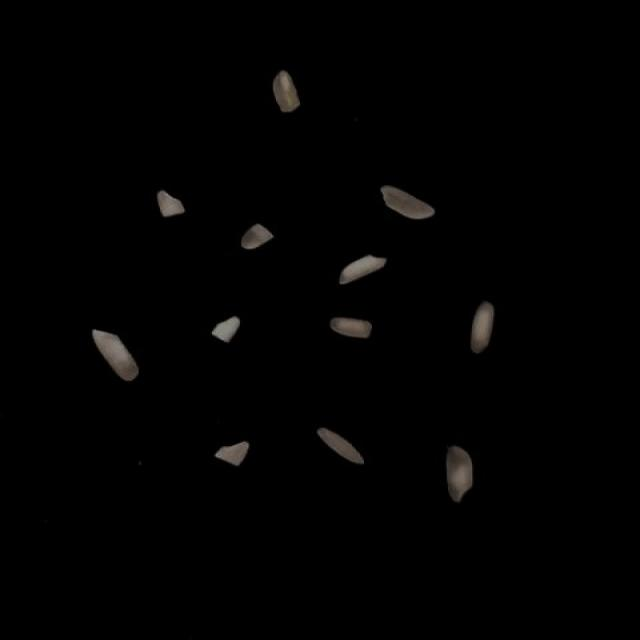Broken: (339, 254, 387, 284), (274, 70, 300, 112), (213, 441, 250, 466), (241, 223, 274, 250), (330, 318, 373, 338), (156, 190, 184, 218), (211, 316, 240, 343)
Full: (92, 329, 139, 382), (380, 186, 434, 220), (317, 428, 364, 464), (446, 446, 473, 502), (470, 302, 494, 354)
